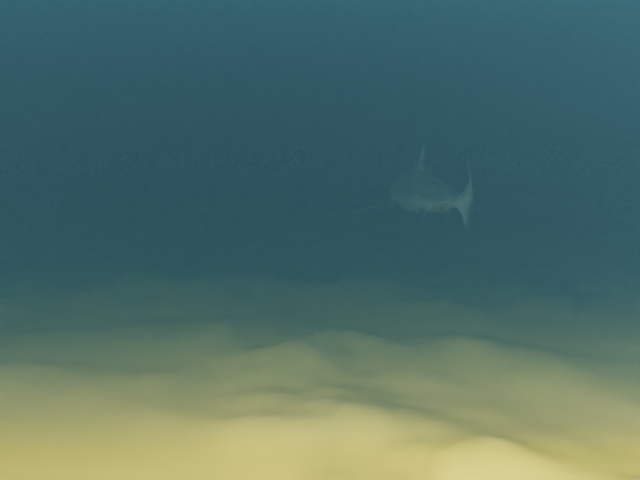Carribean Shark.001: (347, 140, 491, 236)
